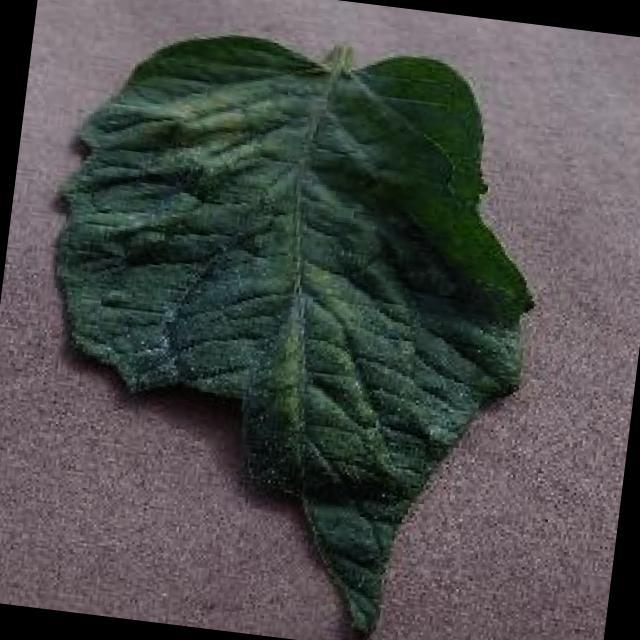Tomato spider mites leaf: (8, 15, 565, 640)
